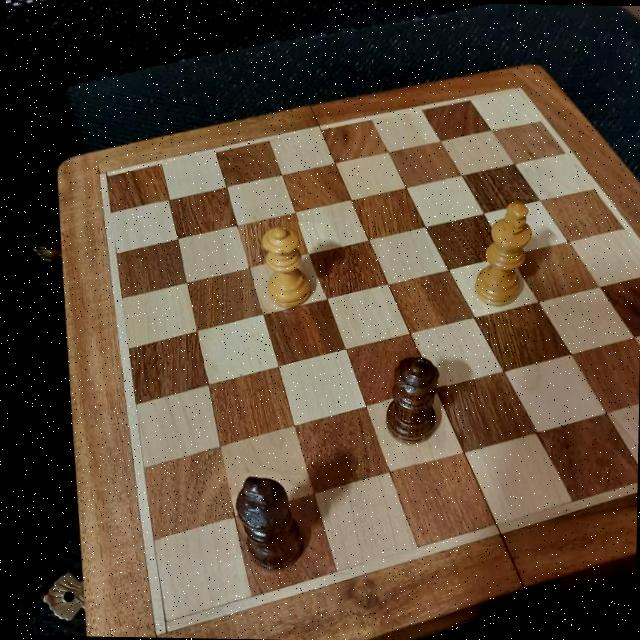black-king: (230, 474, 313, 574)
black-queen: (382, 350, 447, 448)
white-king: (472, 198, 537, 310)
white-queen: (253, 221, 326, 309)
